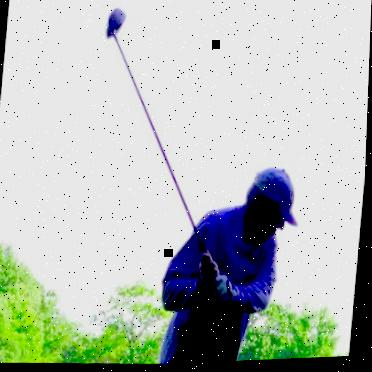GolfBall: (101, 0, 130, 48)
